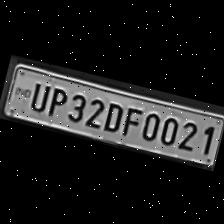0: (136, 106, 163, 142), (156, 111, 180, 145)
1: (194, 119, 218, 156)
2: (172, 115, 202, 153), (80, 92, 108, 130)
3: (62, 86, 89, 124)
D: (99, 97, 125, 133)
F: (118, 102, 143, 138)
P: (42, 82, 70, 118)
U: (26, 78, 50, 112)
